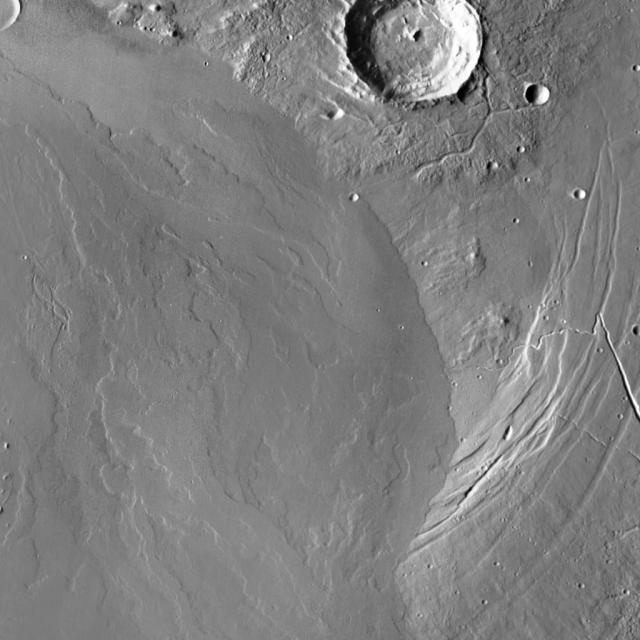crater: (346, 0, 486, 100), (525, 85, 546, 104), (330, 106, 345, 120), (575, 187, 590, 199), (350, 192, 362, 202), (498, 357, 506, 364), (518, 144, 526, 150), (416, 252, 423, 258), (618, 580, 624, 586)
